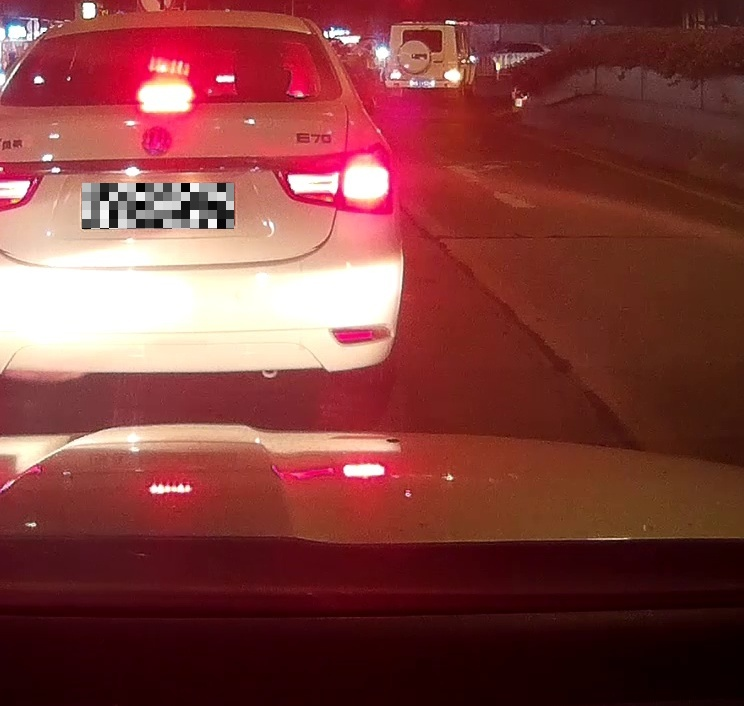L_light: (1, 163, 43, 212)
R_light: (270, 143, 394, 215)
T_light: (139, 84, 194, 105)
night-brake: (0, 12, 403, 391)
plate_1: (82, 183, 234, 229)
